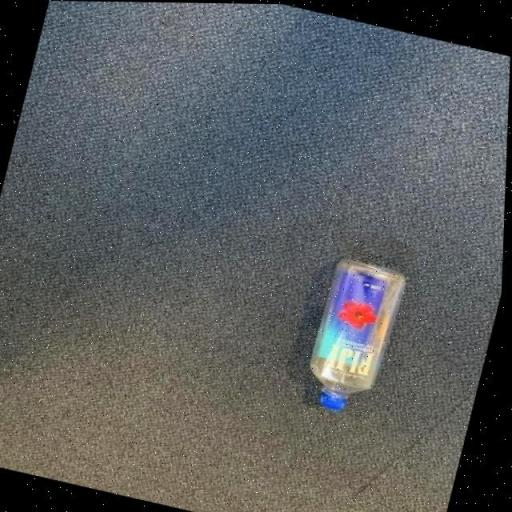plastic: (300, 252, 414, 418)
